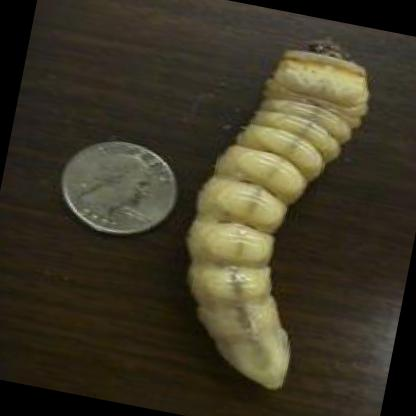root grubs: (194, 40, 367, 389)
